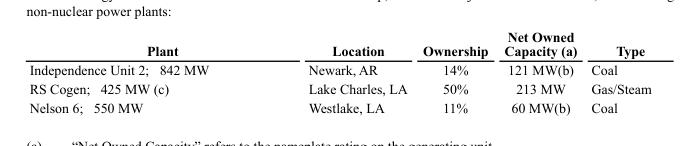table: (28, 28, 650, 114)
table column: (28, 28, 258, 114), (258, 28, 414, 114), (495, 28, 583, 114), (414, 28, 495, 114), (583, 28, 650, 114)
table column header: (28, 28, 650, 59)
table row: (28, 28, 650, 59), (28, 59, 650, 78), (28, 78, 650, 97), (28, 97, 650, 114)
